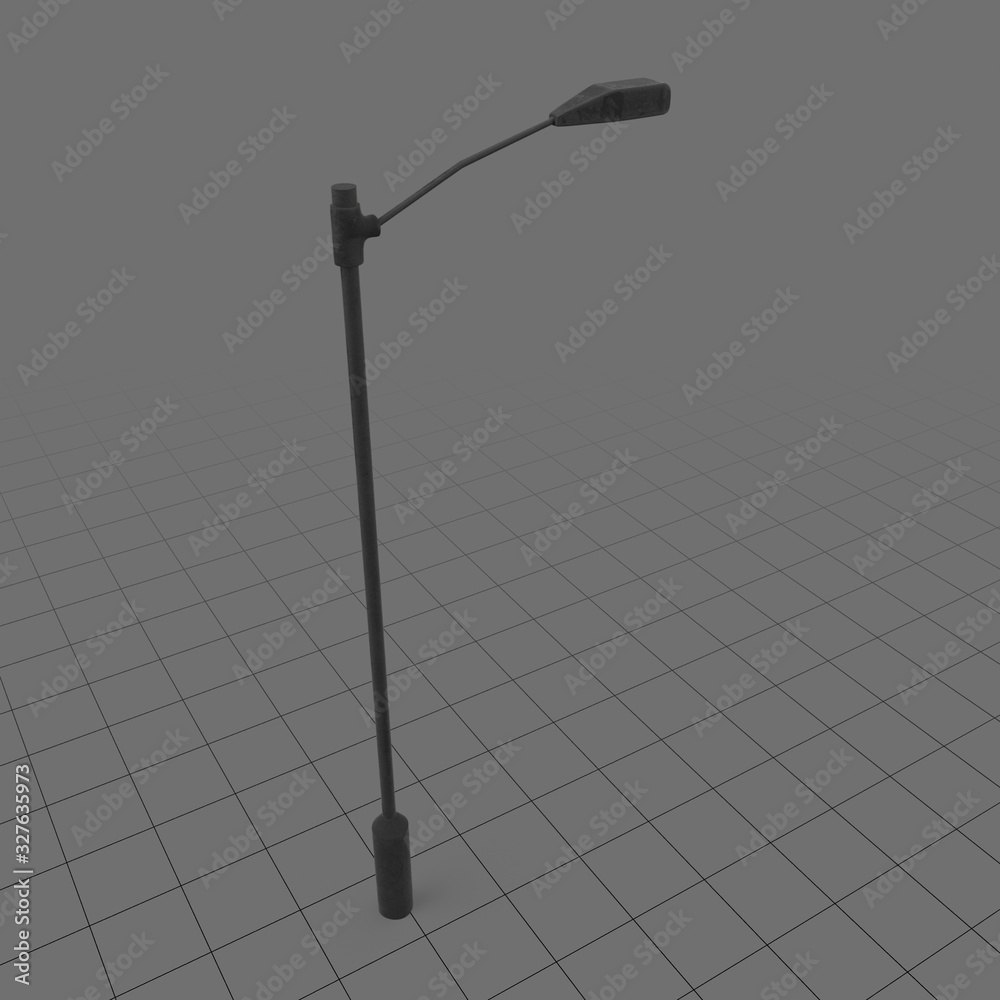Top_Street_Light: (553, 69, 678, 122)
